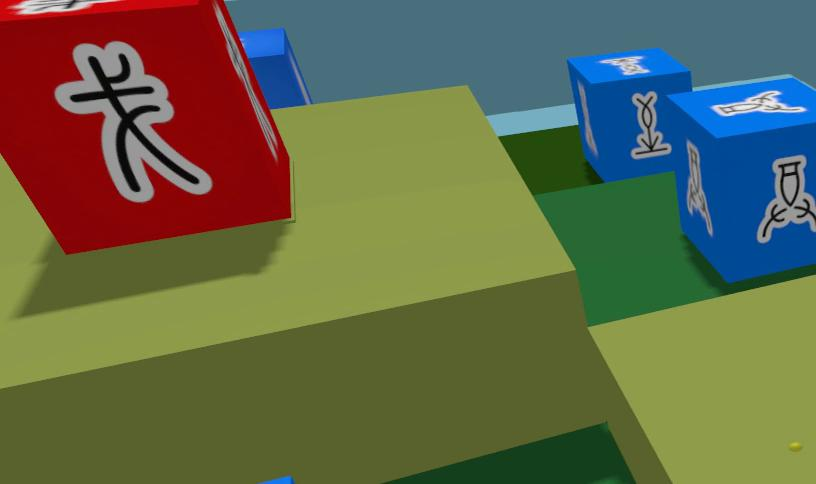KFS_FAKE: (0, 0, 291, 253), (55, 42, 212, 202)
KFS_REAL: (69, 54, 200, 191), (567, 48, 691, 180), (757, 155, 815, 242), (631, 91, 670, 157), (685, 141, 712, 236), (712, 90, 805, 115), (577, 82, 598, 155), (261, 478, 293, 483)
